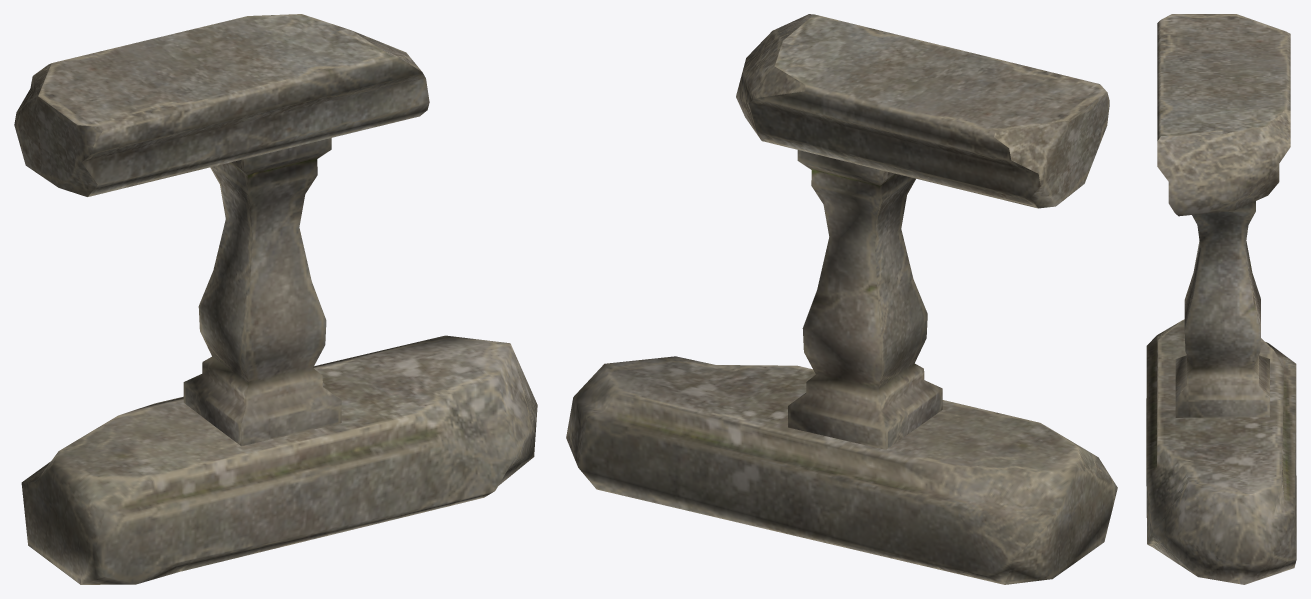
Rendered from SM_Ballustrade_Ruined_07.fbx.
3 renders of one model, left to right at view 1: azimuth 30°, elevation 25°; view 2: azimuth 150°, elevation 25°; view 3: azimuth 270°, elevation 25°, orthographic. The views are drawn at different scales.
Parts seen in each view (by area): view 1: SM_Ballustrade_Ruined_07_LOD0; view 2: SM_Ballustrade_Ruined_07_LOD0; view 3: SM_Ballustrade_Ruined_07_LOD0.
Part boxes in pixels (x1,y1,x2,y2): SM_Ballustrade_Ruined_07_LOD0: [14, 14, 537, 584]; SM_Ballustrade_Ruined_07_LOD0: [566, 14, 1117, 584]; SM_Ballustrade_Ruined_07_LOD0: [1146, 14, 1296, 584].
Size of what is drawn, in the model's own units: 114 by 101 by 36.5.
